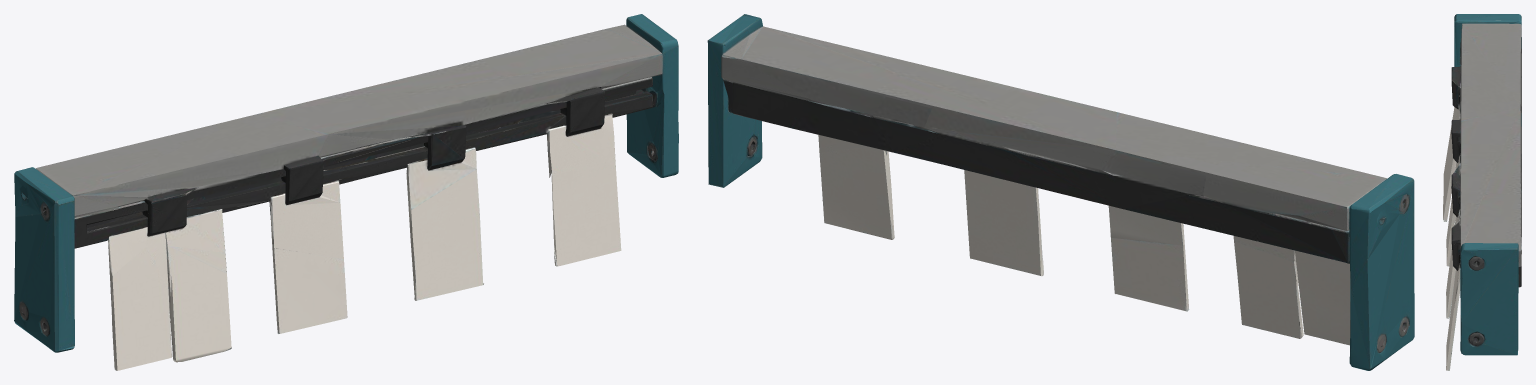
The model's file is ticketRail.glb.
3 renders of one model, left to right at view 1: azimuth 30°, elevation 25°; view 2: azimuth 150°, elevation 25°; view 3: azimuth 270°, elevation 25°, orthographic. The views are drawn at different scales.
Parts seen in each view (by area): view 1: Mesh_0; view 2: Mesh_0; view 3: Mesh_0.
Part boxes in pixels (x1,y1,x2,y2): Mesh_0: (14,14,678,370); Mesh_0: (707,14,1414,370); Mesh_0: (1443,14,1521,370).
Size of the model in its own units: 0.5184 by 0.15 by 0.0718.
Materials: 1 (1 with a texture image).
